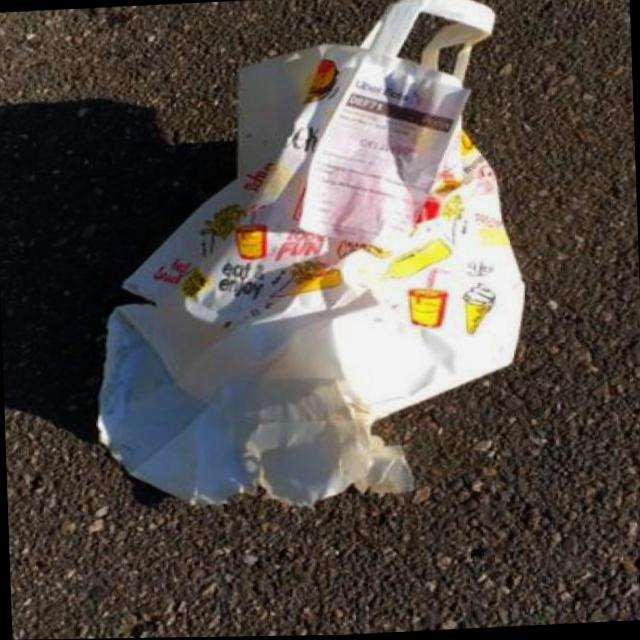Paper: (75, 0, 534, 519)
